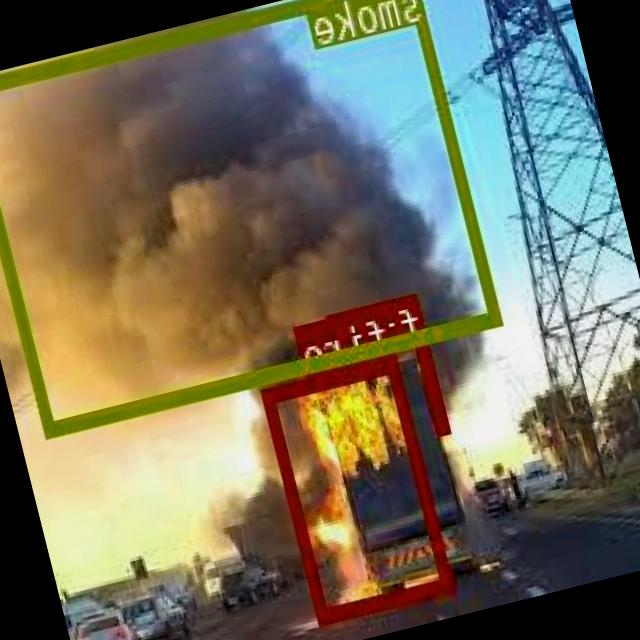fire: (264, 354, 455, 622), (417, 343, 451, 432)
smoke: (0, 0, 504, 435)
